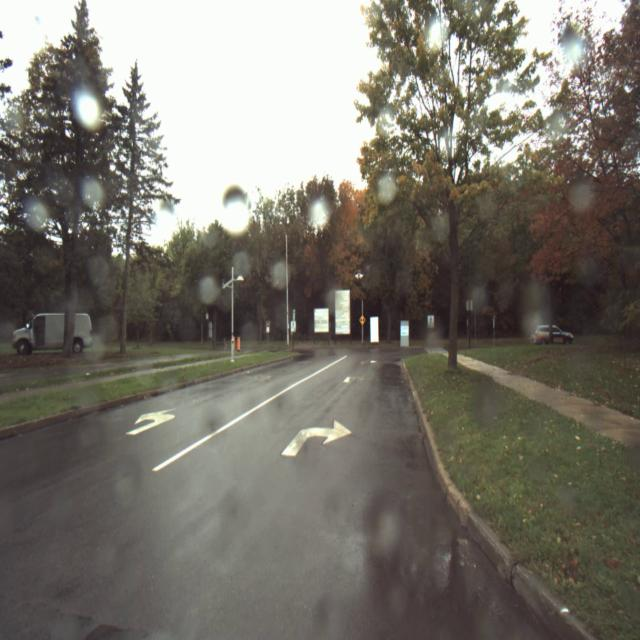car: (534, 323, 574, 346)
